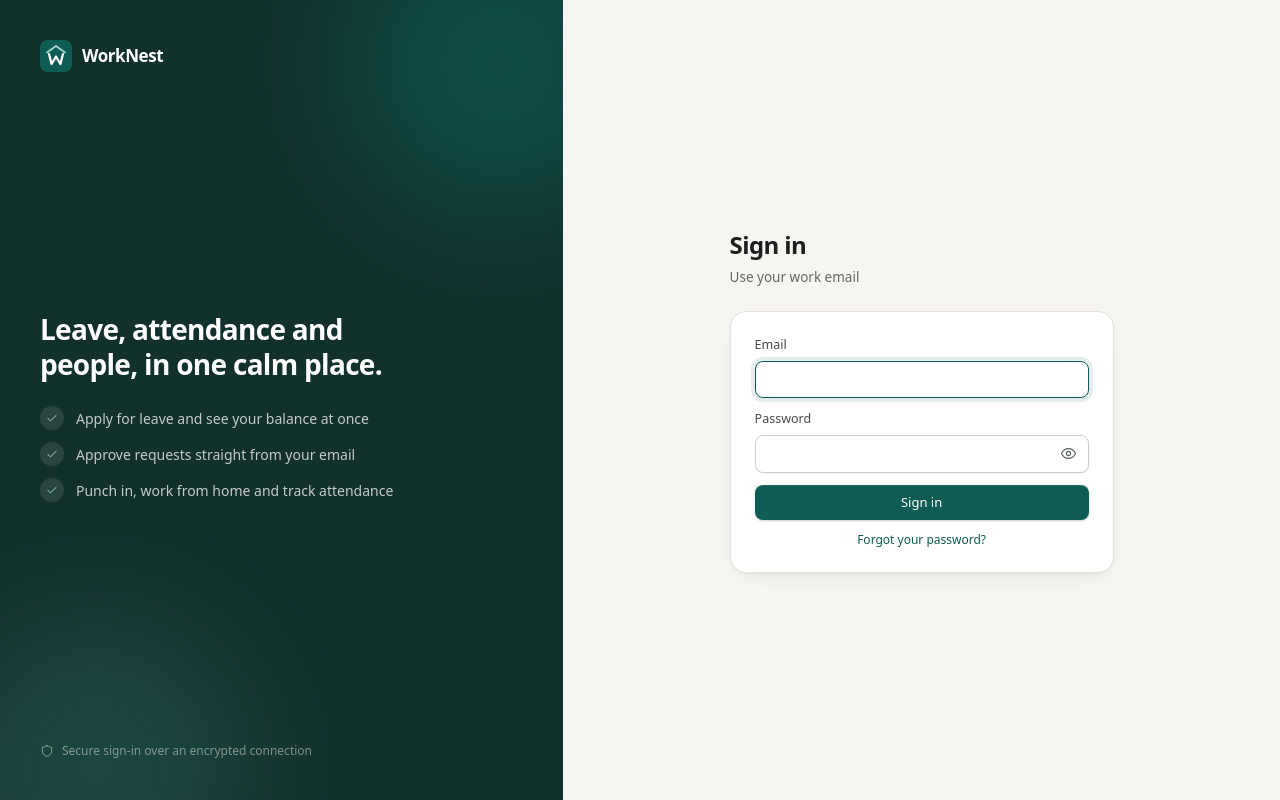
Test: password fields › shows and hides the password with the eye button
This screenshot has width=1280, height=800.
Type "secret-pass-1" into the password field labelled "Password" at (922, 454), box [755,435,1089,473]
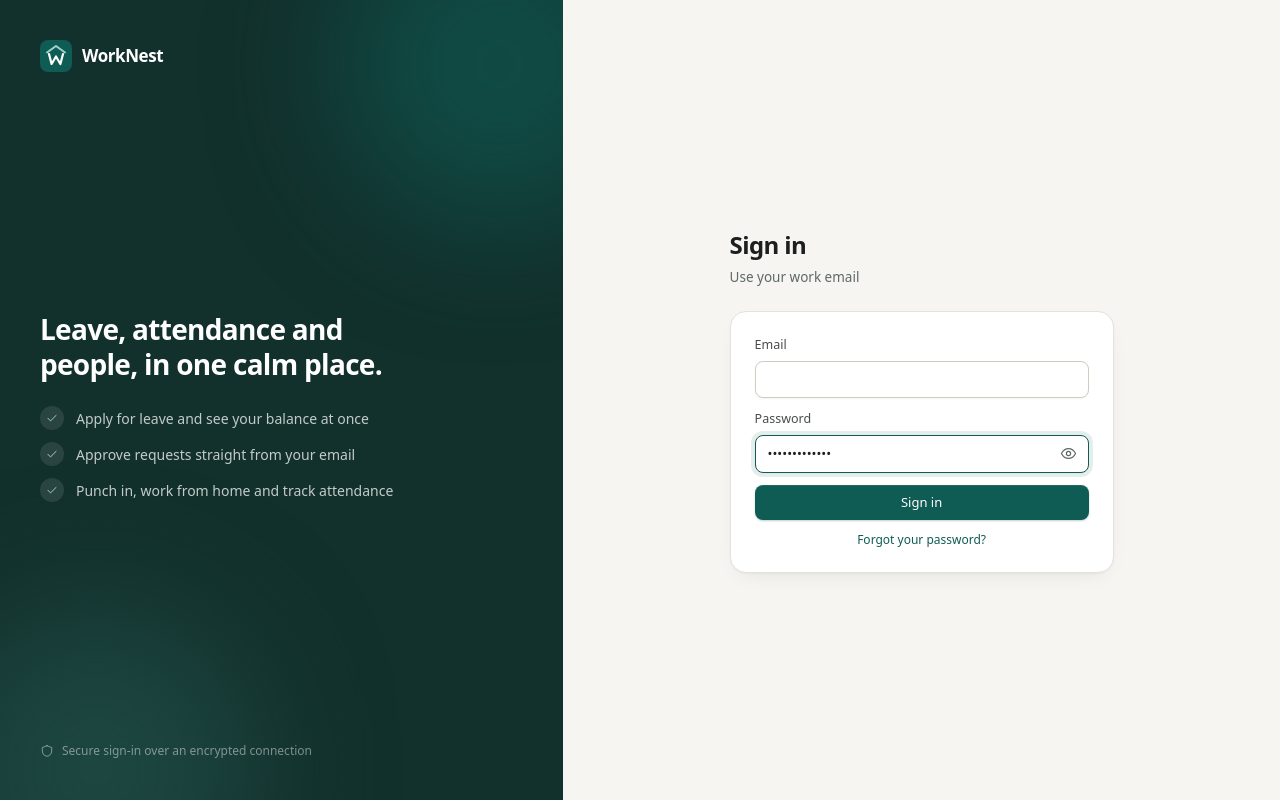
Click the button named "Show password" at (1069, 454), box [1049,435,1089,473]
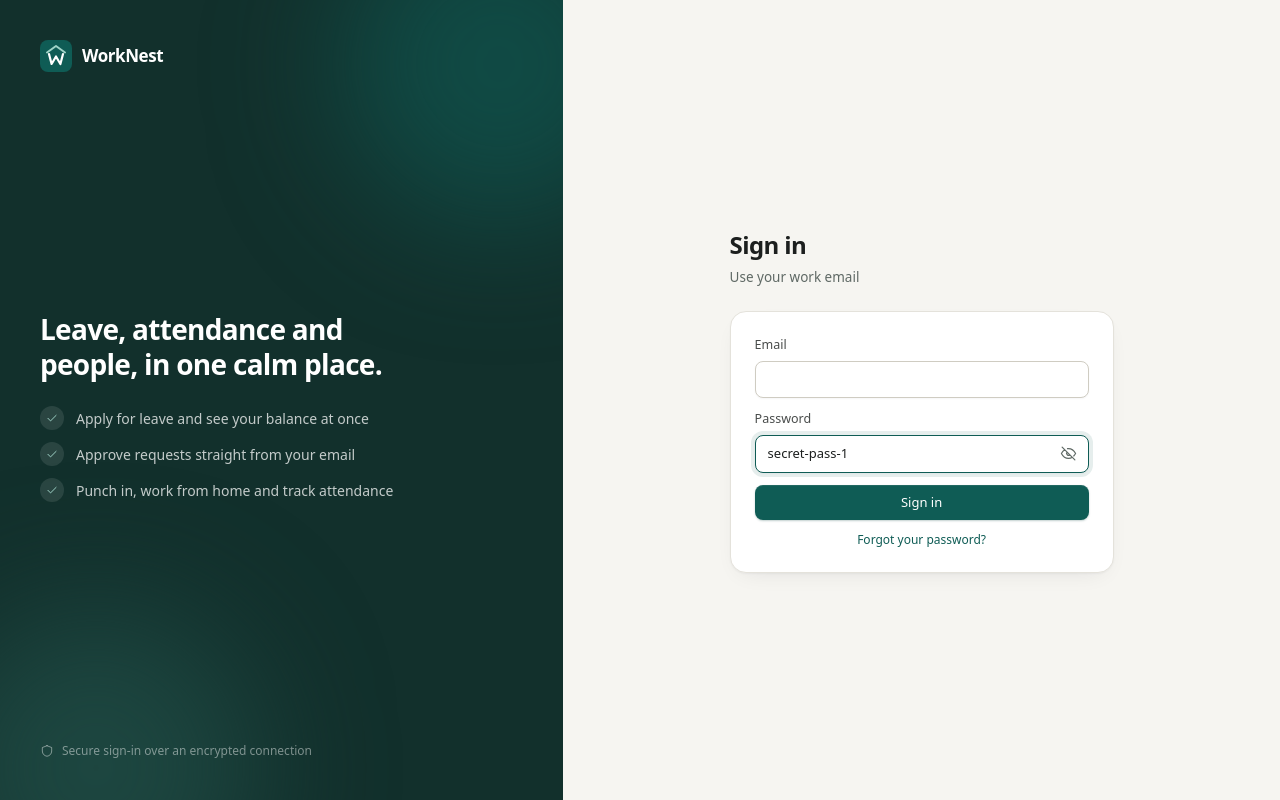
Expected: the field labelled "Password" shows its text, [755,435,1089,473]
Click the button named "Hide password" at (1069, 454), box [1049,435,1089,473]
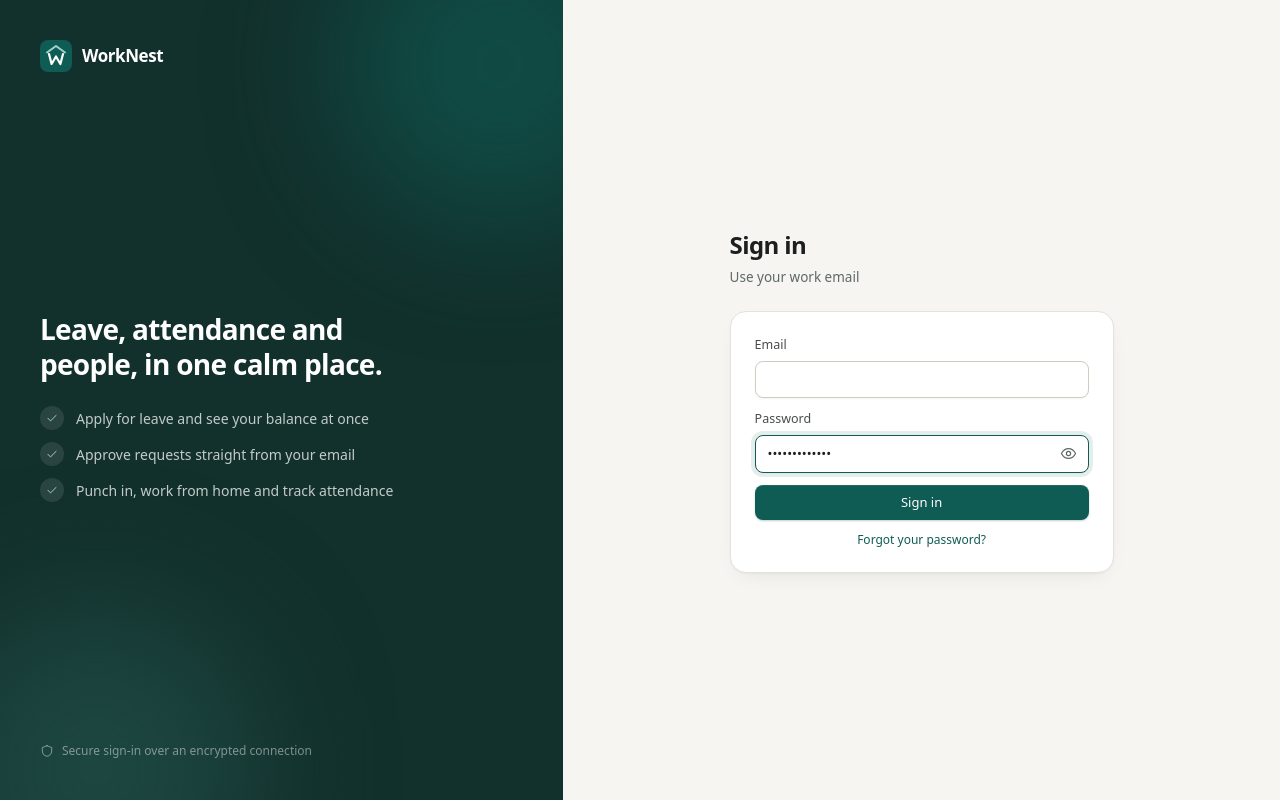
Expected: the password field labelled "Password" hides its text, [755,435,1089,473]
